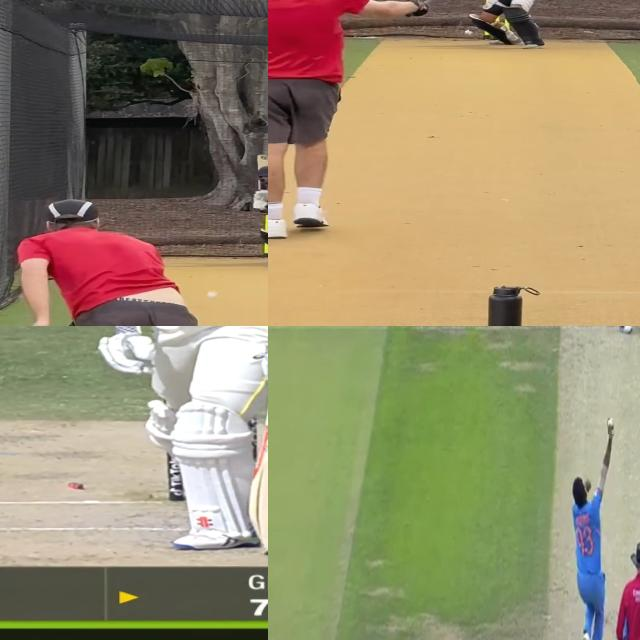Cricket ball: (608, 415, 616, 434), (205, 290, 219, 298), (464, 28, 474, 36)
